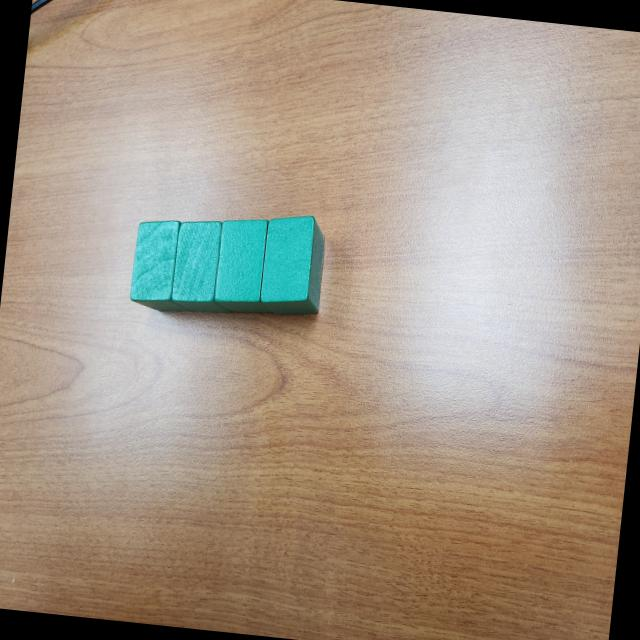green: (258, 210, 328, 321), (211, 213, 283, 320), (127, 216, 202, 316), (170, 216, 241, 317)
